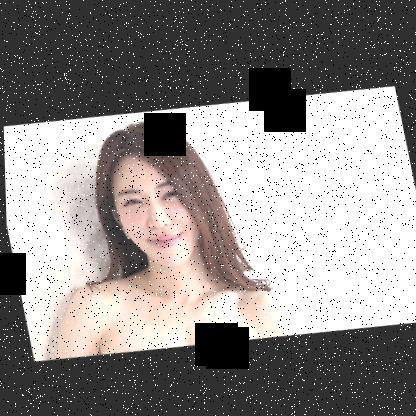Female: (101, 142, 204, 274)
